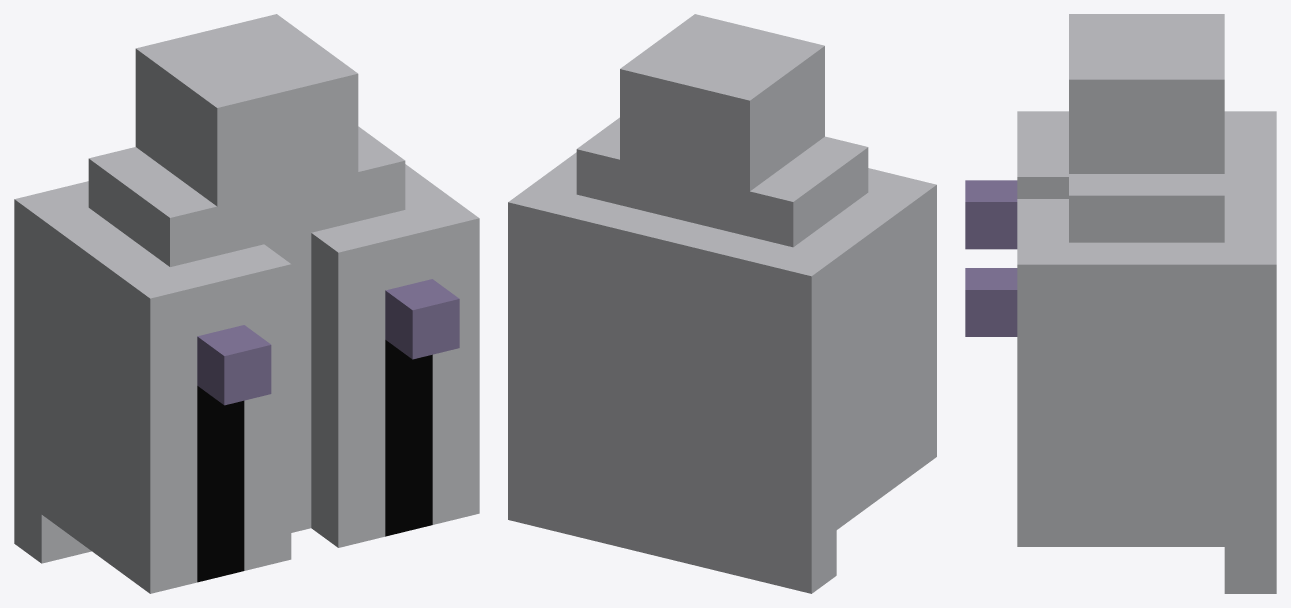
File: ghost_action_1.obj
3 views of the same model, side by side, from view 1: azimuth 30°, elevation 25°; view 2: azimuth 150°, elevation 25°; view 3: azimuth 270°, elevation 25° (orthographic). The views are drawn at different scales.
Size of the model in its own units: 0.7 by 1 by 0.6.
1 material, 1 textured.
